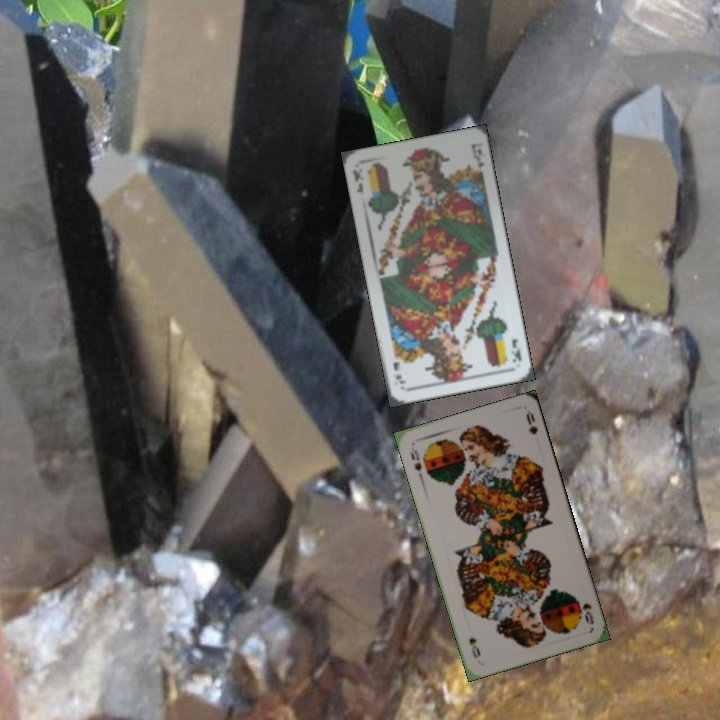EK: (348, 166, 367, 198), (507, 334, 524, 365)
SO: (406, 442, 425, 482), (573, 596, 597, 627)
